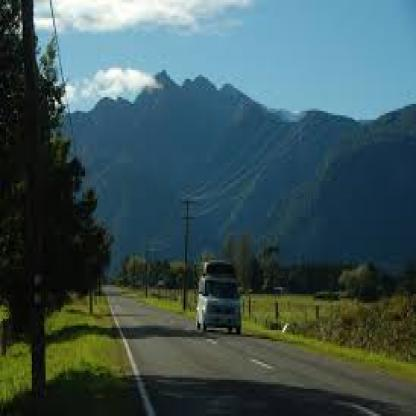car: (187, 254, 249, 344)
